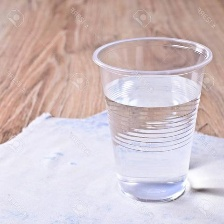glass: (88, 29, 215, 205)
